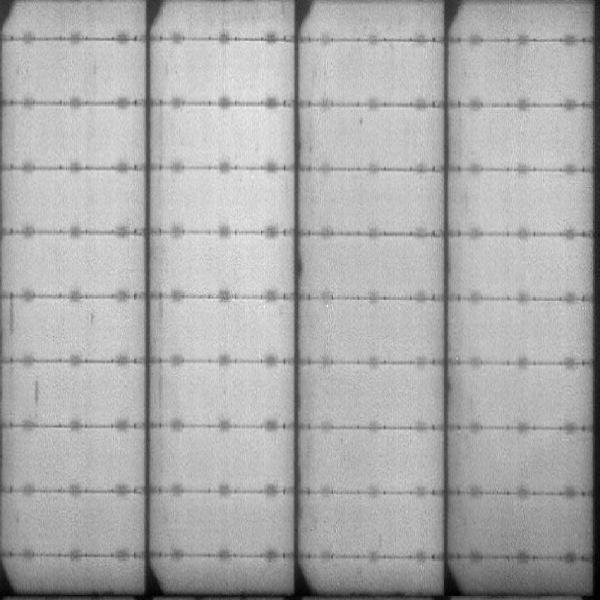scratch: (6, 286, 20, 336)
